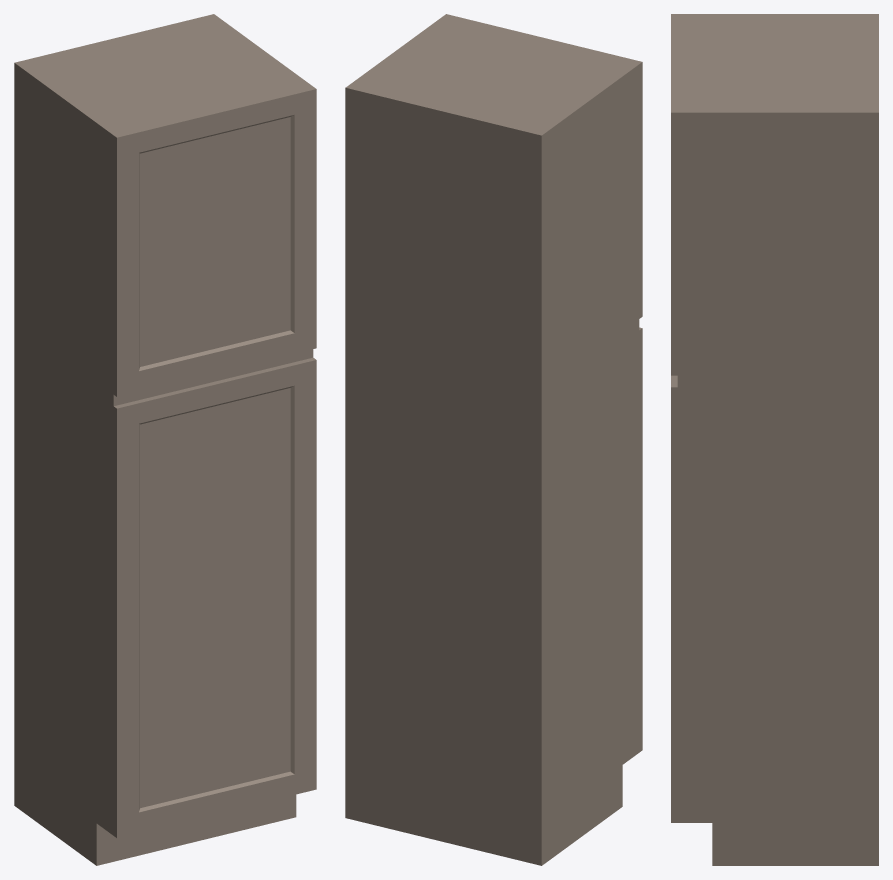
File: Universal-Design-Utility-Cabinet-24-Deep_std_001_W27in_2D.glb
3 views of the same model, side by side, from view 1: azimuth 30°, elevation 25°; view 2: azimuth 150°, elevation 25°; view 3: azimuth 270°, elevation 25° (orthographic). The views are drawn at different scales.
Parts seen in each view (by area): view 1: Universal-Design-Utility-Cabinet-24-Deep.std.001_W27in_2D; view 2: Universal-Design-Utility-Cabinet-24-Deep.std.001_W27in_2D; view 3: Universal-Design-Utility-Cabinet-24-Deep.std.001_W27in_2D.
Boxes of the visible parts, bbox=[...] form: Universal-Design-Utility-Cabinet-24-Deep.std.001_W27in_2D: bbox=[14, 14, 316, 865]; Universal-Design-Utility-Cabinet-24-Deep.std.001_W27in_2D: bbox=[345, 14, 642, 865]; Universal-Design-Utility-Cabinet-24-Deep.std.001_W27in_2D: bbox=[671, 14, 878, 865].
Bounding box in the file's own units: 0.6858 × 2.44 × 0.6096.
